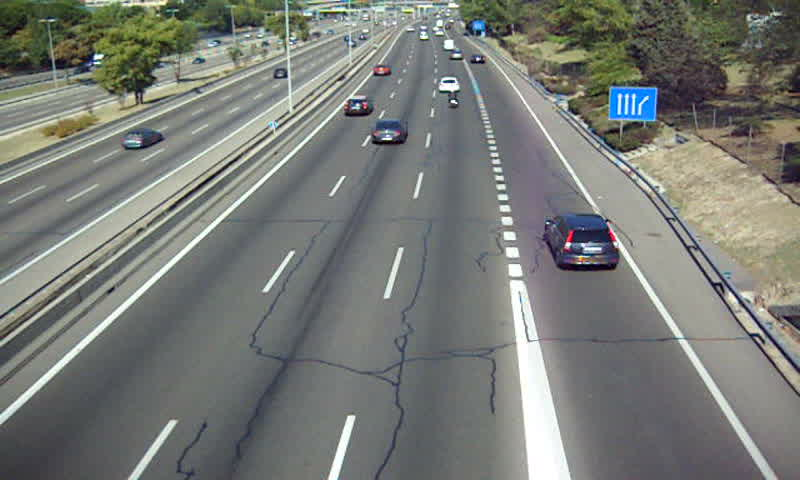car: (545, 215, 619, 269), (370, 118, 408, 144), (344, 96, 374, 118), (436, 77, 462, 94), (372, 64, 391, 77)
motorcycle: (445, 89, 461, 109)
